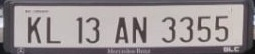character: (113, 15, 129, 44), (131, 15, 147, 44), (26, 15, 41, 45), (45, 16, 60, 44), (160, 16, 175, 43), (179, 15, 193, 43), (85, 16, 99, 43), (214, 14, 228, 41), (197, 15, 210, 42), (75, 16, 83, 44)
